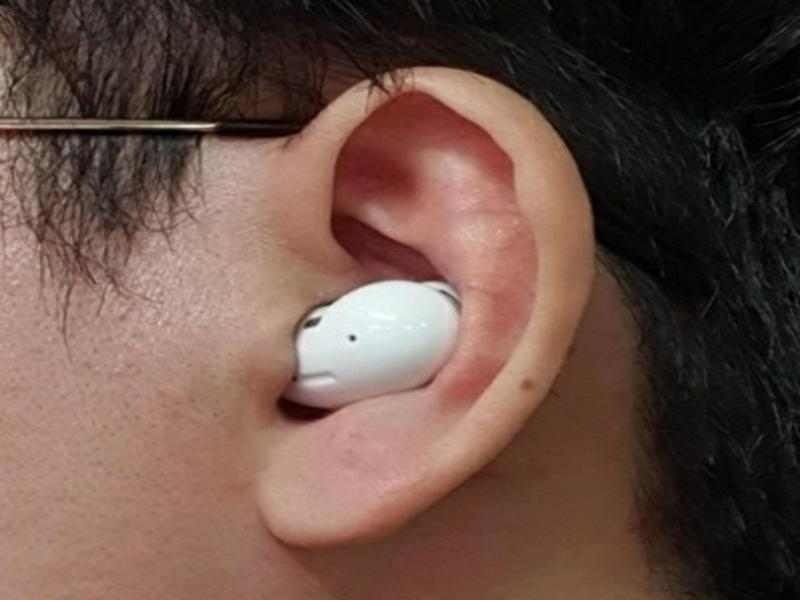headphone: (285, 268, 466, 420)
